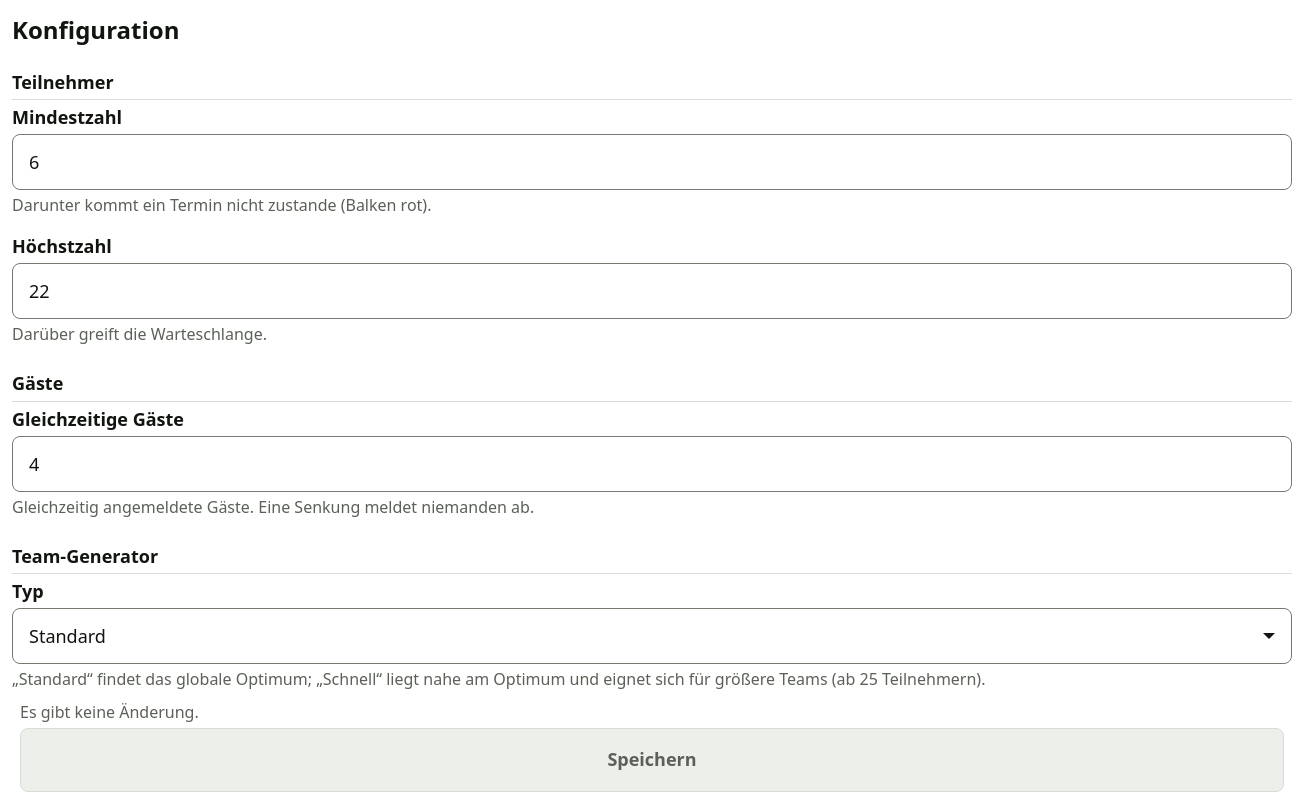
it: AdminKonfiguration – Speichern › das Verfahren EXHAUSTIV heißt „Standard“ (24.10.2026), HEURISTIK „Schnell“
This screenshot has width=1304, height=800.
Click the dropdown with test id "admin-konfig-algorithmType".
click(67, 636)  # box [12,608,1292,664]
(page scrolled)
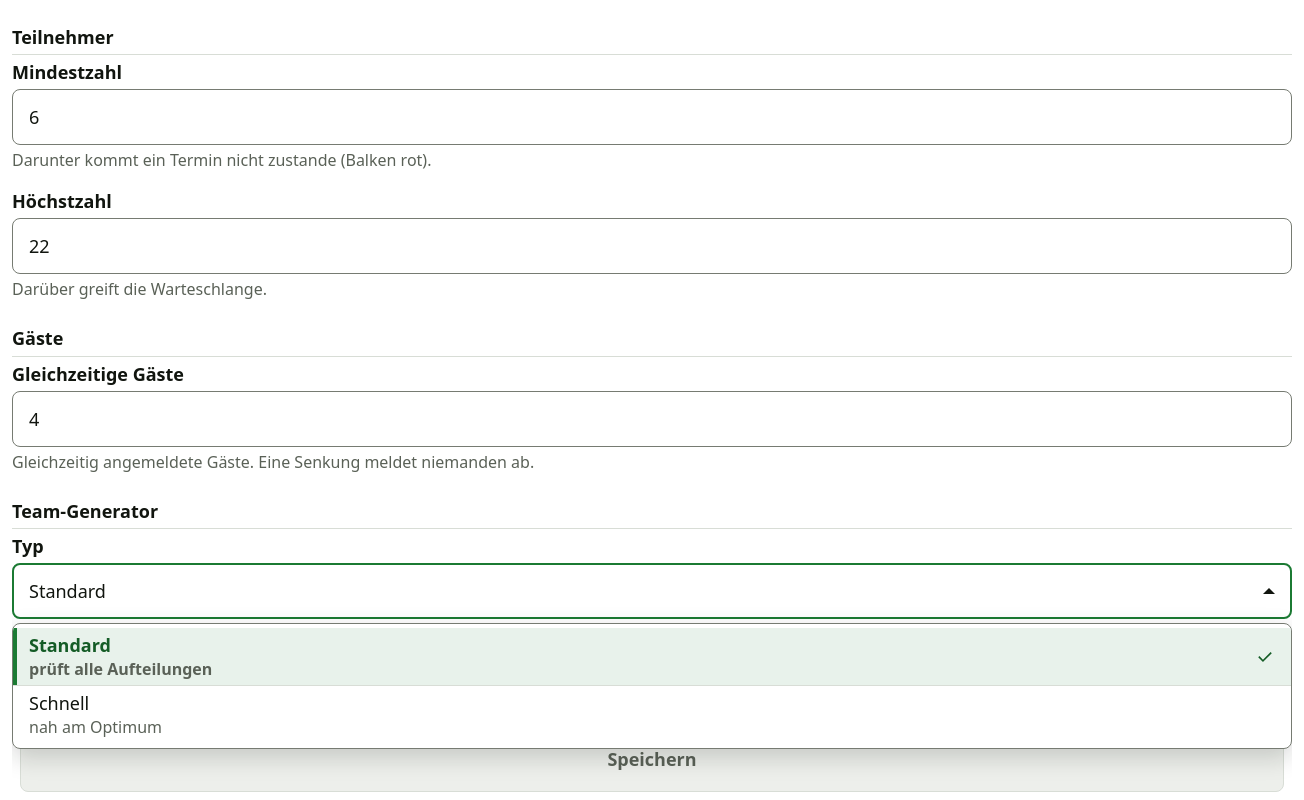
Check: the option with test id "admin-konfig-algorithmType-option-EXHAUSTIV" shows "Standard", box [13,628,1291,685]
Check: the option with test id "admin-konfig-algorithmType-option-HEURISTIK" shows "Schnell", box [13,685,1291,744]
